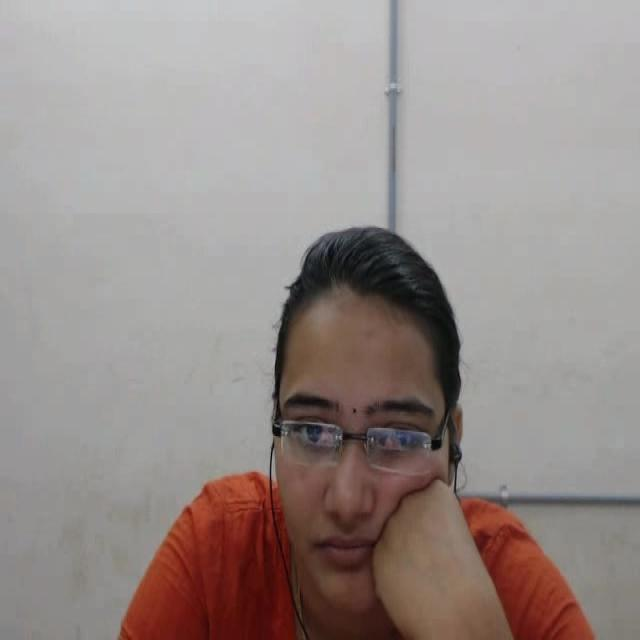Bored: (246, 186, 484, 636)
